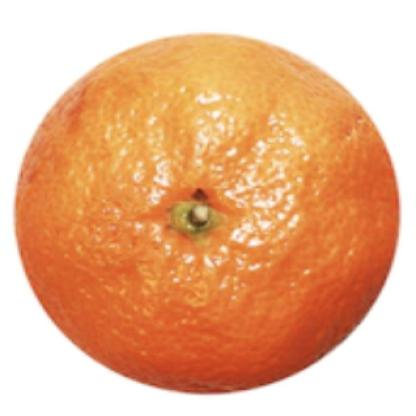fresh: (17, 33, 401, 394)
